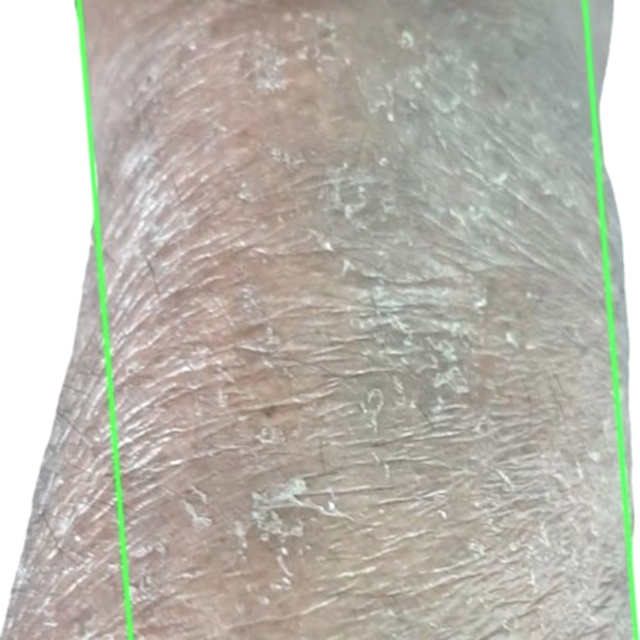Tinea Corporis: (0, 0, 132, 639)
